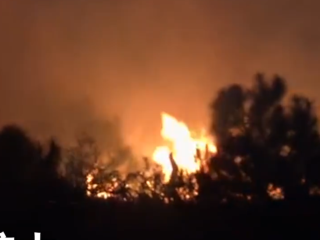fire: (142, 110, 218, 178)
